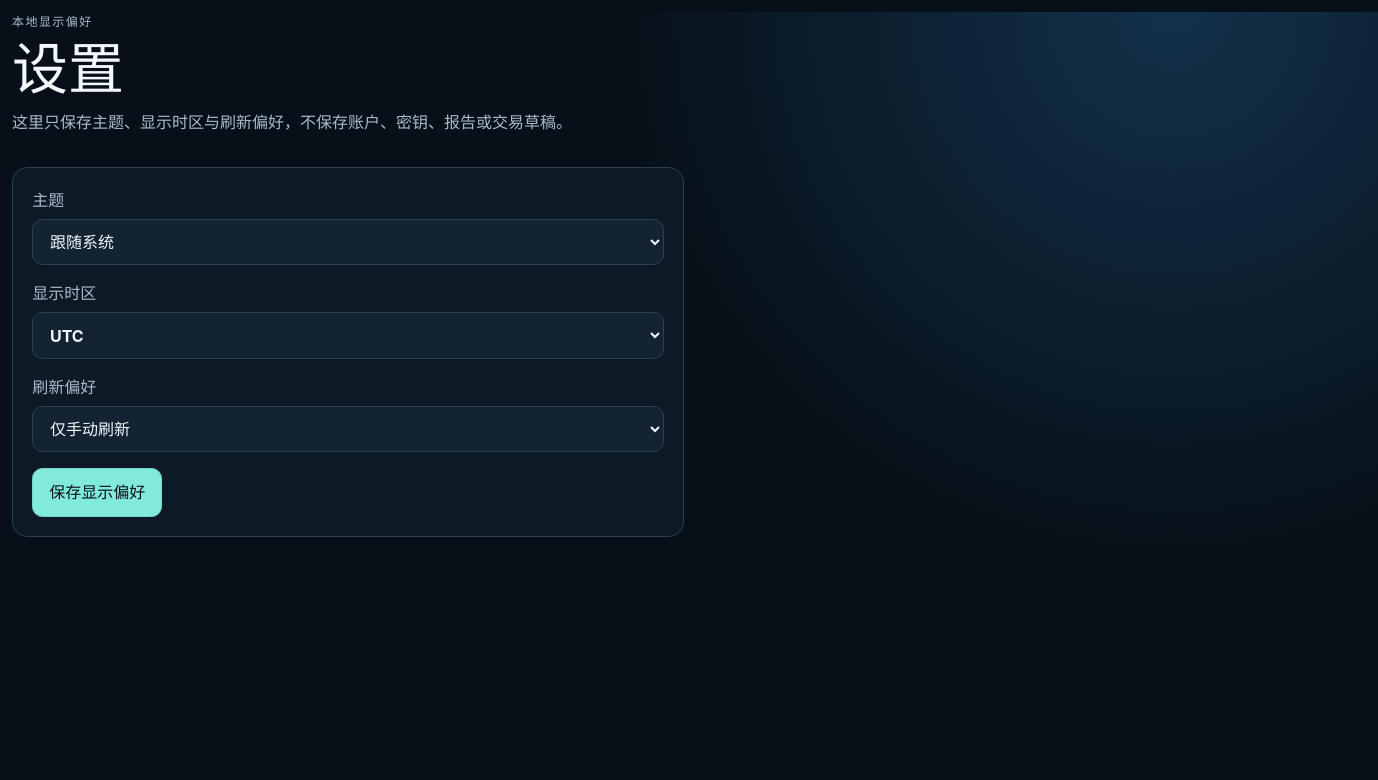
Test case: SettingsPage › persists the selected display preferences and nothing else
This screenshot has width=1378, height=780.
Select "浅色" in the dropdown labelled "主题": (348, 242) [32,219,664,265]
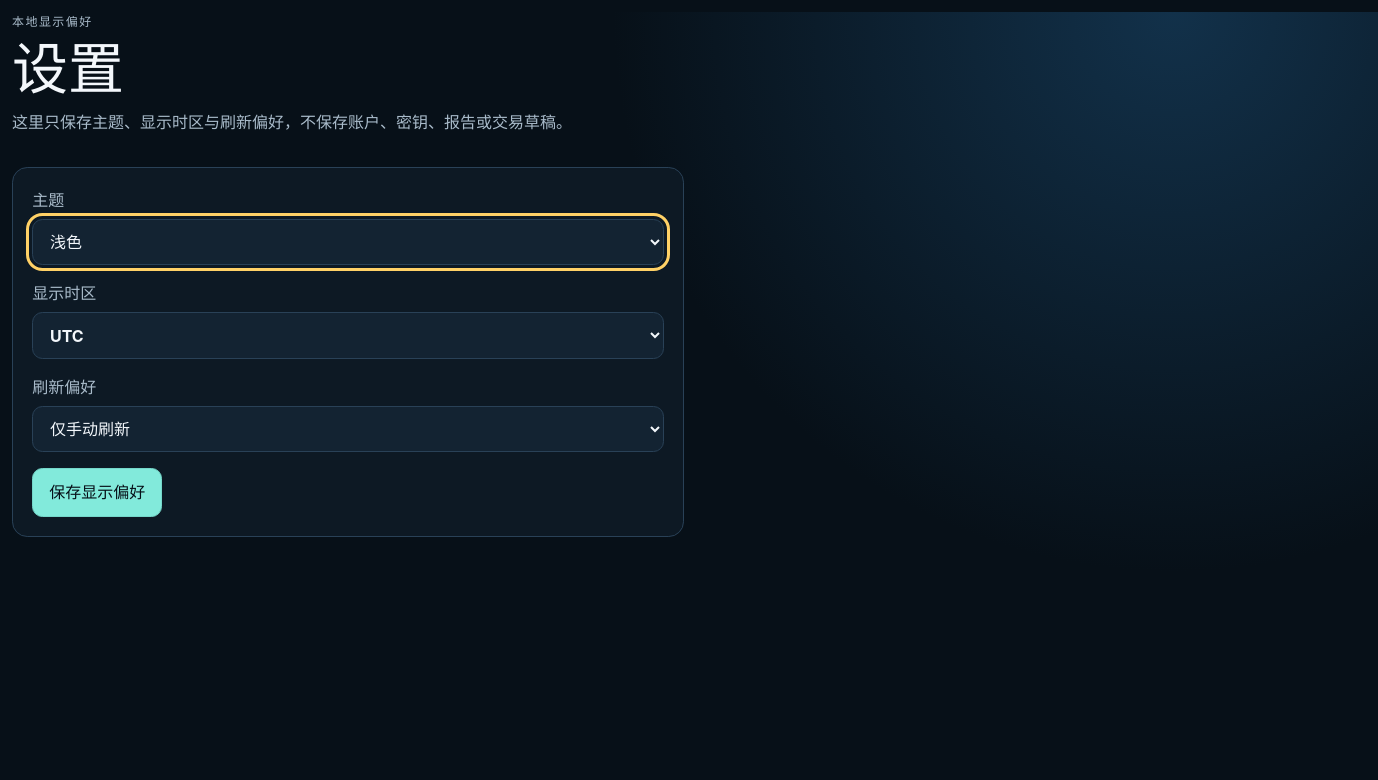
Select "Asia/Shanghai" in the dropdown labelled "显示时区": (348, 336) [32,312,664,359]
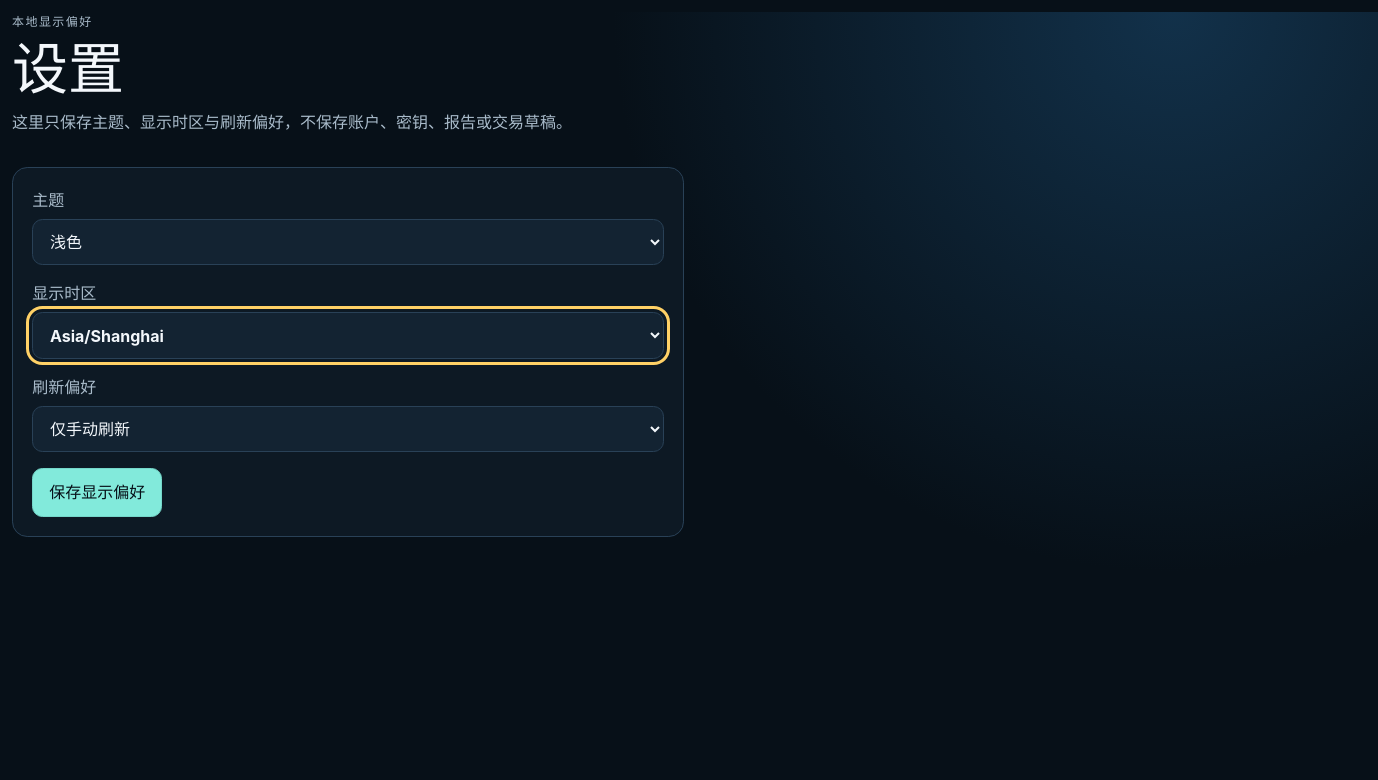
Select "页面可见时自动刷新" in the dropdown labelled "刷新偏好": (348, 429) [32,406,664,452]
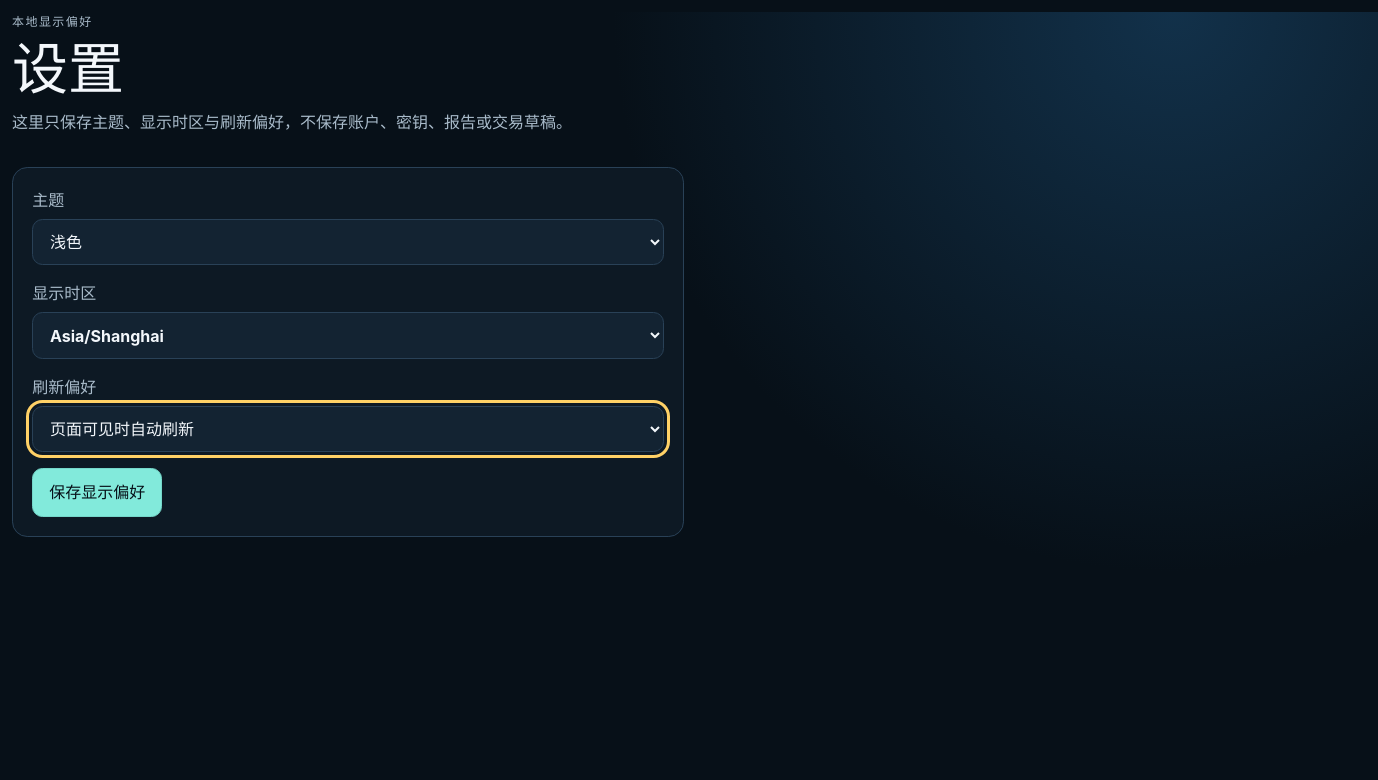
Click the button "保存显示偏好": (97, 492) [32,468,162,517]
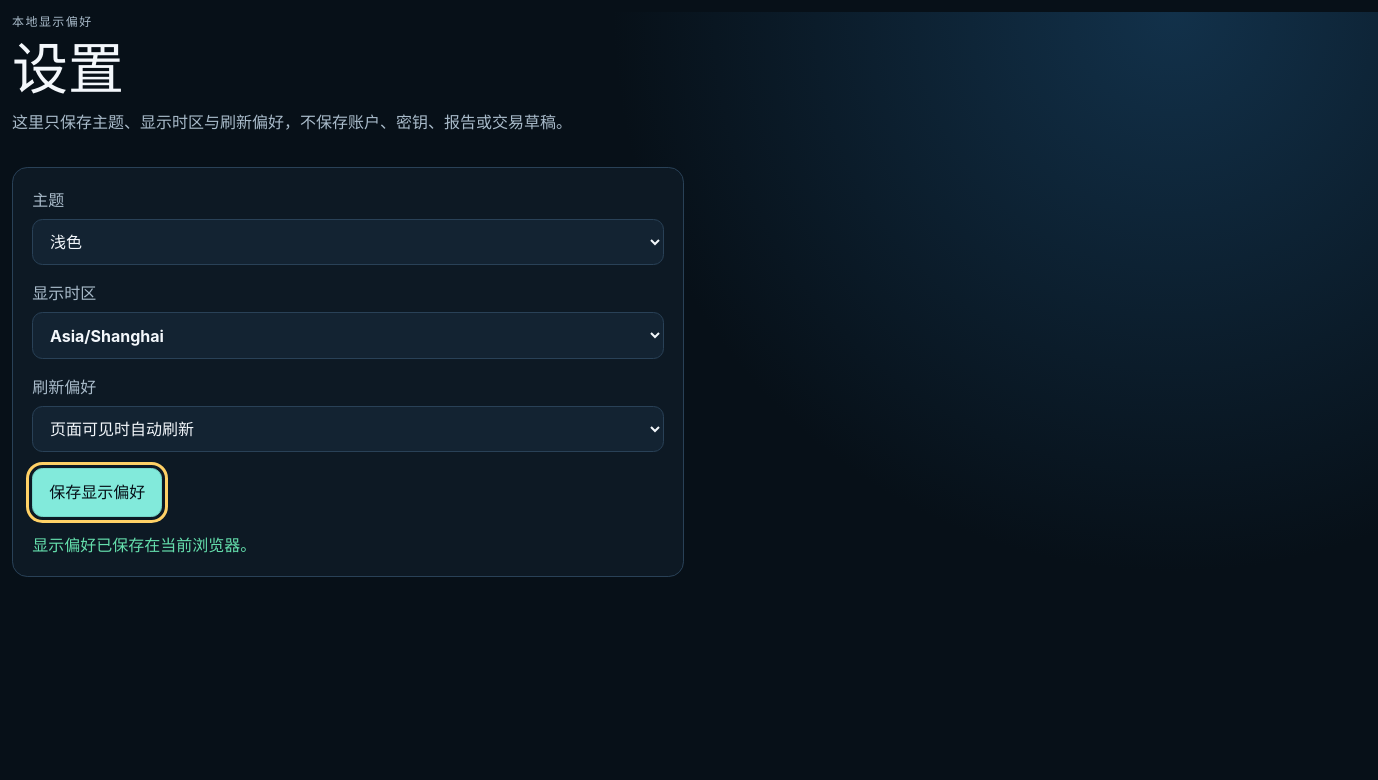
Check: the message reads "显示偏好已保存在当前浏览器。", box [32,535,256,555]
